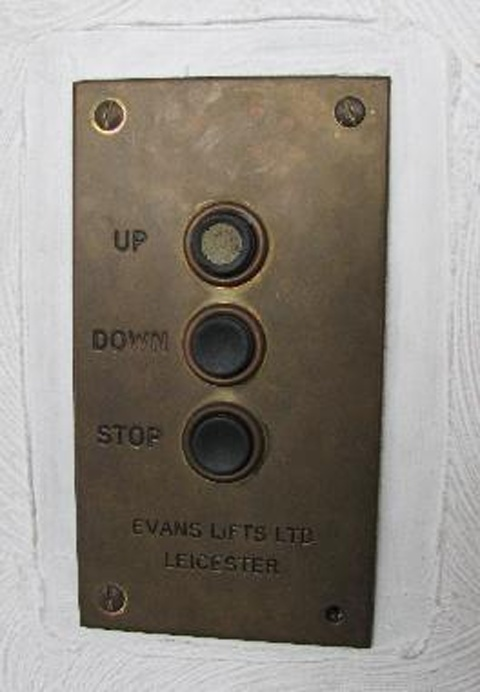empty: (177, 196, 275, 291), (179, 297, 272, 389), (178, 398, 271, 487)
